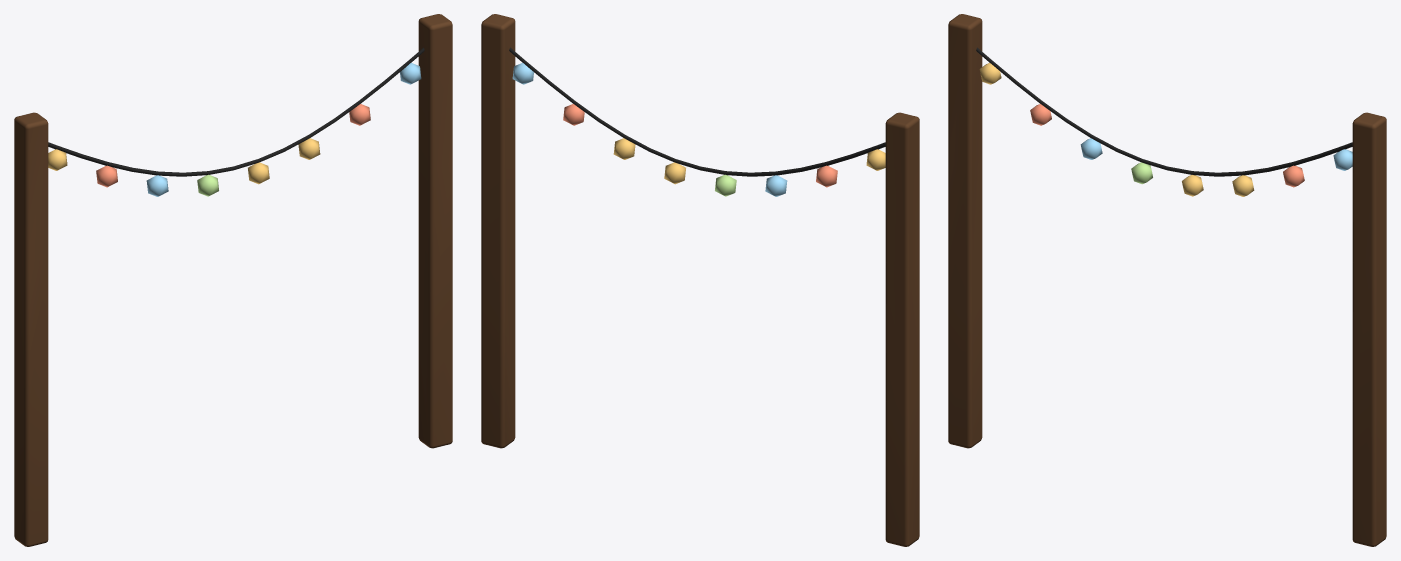
The model's file is furn_od_string_lights.glb.
3 renders of one model, left to right at view 1: azimuth 30°, elevation 25°; view 2: azimuth 150°, elevation 25°; view 3: azimuth 330°, elevation 25°, orthographic.
Visible parts, largest first — view 1: furn_od_string_lights_main, furn_od_string_lights_glow; view 2: furn_od_string_lights_main, furn_od_string_lights_glow; view 3: furn_od_string_lights_main, furn_od_string_lights_glow.
Part boxes in pixels (<box>): furn_od_string_lights_main: <box>14,14,452,546</box>; furn_od_string_lights_glow: <box>48,63,421,196</box>; furn_od_string_lights_main: <box>481,14,919,546</box>; furn_od_string_lights_glow: <box>512,63,885,196</box>; furn_od_string_lights_main: <box>948,14,1386,546</box>; furn_od_string_lights_glow: <box>979,63,1352,196</box>.
Size of the model in its own units: 1.8 by 1.7 by 0.1.
